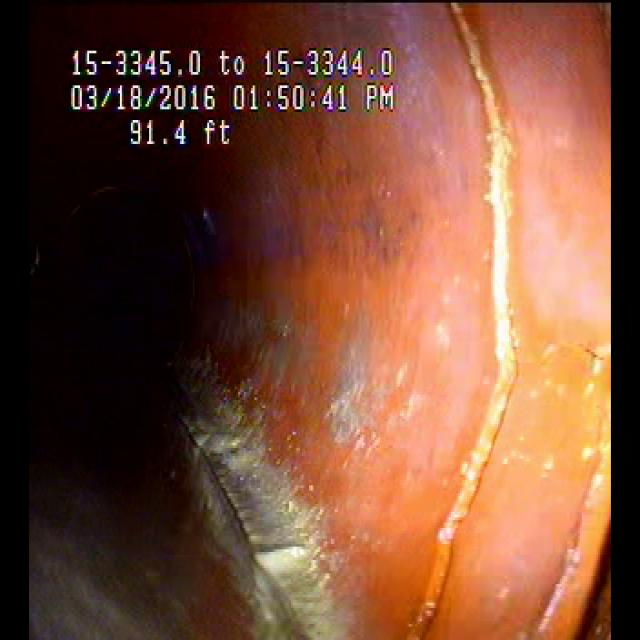Fracture: (414, 35, 541, 611)
